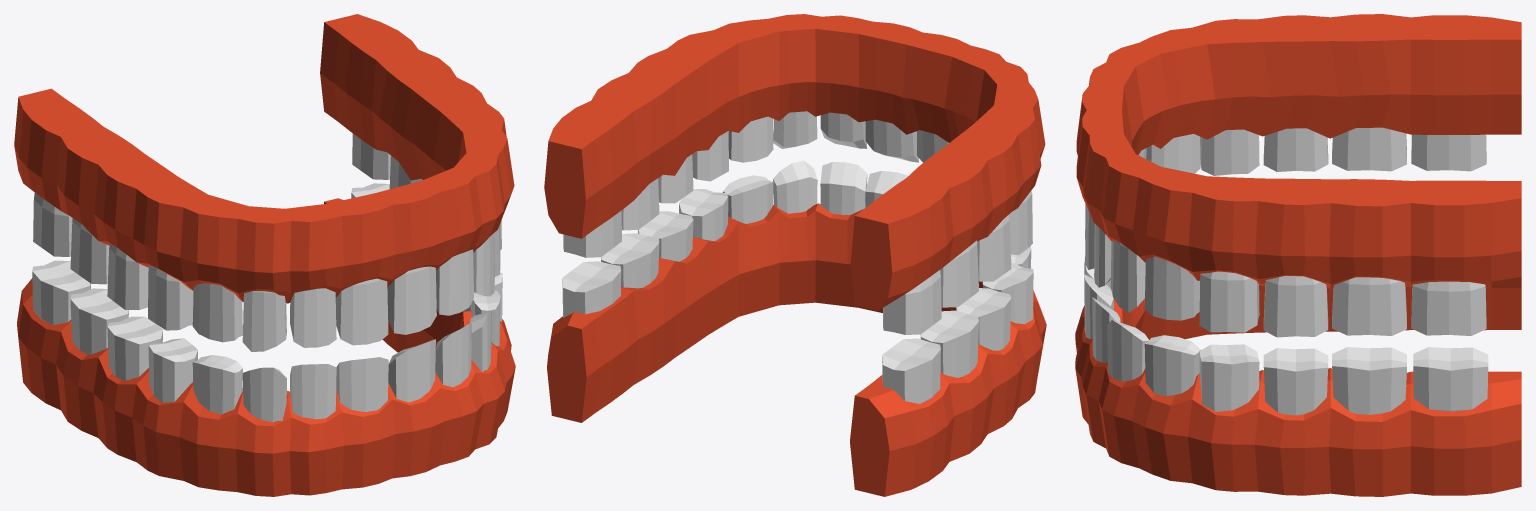
File: Jaws.fbx
3 renders of one model, left to right at view 1: azimuth 30°, elevation 25°; view 2: azimuth 150°, elevation 25°; view 3: azimuth 270°, elevation 25°, orthographic. The views are drawn at different scales.
Parts seen in each view (by area): view 1: Palatum_U, Palatum_D, Tooth1_U, Tooth1_D, Tooth2_U, Tooth2_D, Tooth3_U, Tooth4_D, Tooth3_D, Tooth8_U, Tooth8_D, Tooth4_U (+6 smaller); view 2: Palatum_U, Palatum_D, Tooth8_D, Tooth7_D, Tooth6_D, Tooth8_U, Tooth5_D, Tooth7_U, Tooth6_U, Tooth5_U, Tooth1_U, Tooth2_D (+6 smaller); view 3: Palatum_U, Palatum_D, Tooth7_U, Tooth8_U, Tooth6_U, Tooth5_U, Tooth7_D, Tooth4_U, Tooth8_D, Tooth6_D, Tooth5_D, Tooth4_D (+6 smaller).
Boxes of the visible parts, x1=… form: Palatum_U: x1=14, y1=14, x2=514, y2=303; Palatum_D: x1=17, y1=198, x2=515, y2=496; Tooth1_U: x1=335, y1=266, x2=436, y2=345; Tooth1_D: x1=336, y1=339, x2=435, y2=411; Tooth2_U: x1=290, y1=249, x2=473, y2=347; Tooth2_D: x1=290, y1=322, x2=471, y2=419; Tooth3_U: x1=242, y1=233, x2=494, y2=351; Tooth4_D: x1=192, y1=290, x2=500, y2=414; Tooth3_D: x1=242, y1=311, x2=491, y2=422; Tooth8_U: x1=33, y1=133, x2=390, y2=256; Tooth8_D: x1=32, y1=183, x2=389, y2=325; Tooth4_U: x1=192, y1=225, x2=500, y2=342; Palatum_U: x1=544, y1=14, x2=1045, y2=310; Palatum_D: x1=547, y1=203, x2=1046, y2=496; Tooth8_D: x1=562, y1=261, x2=940, y2=403; Tooth7_D: x1=601, y1=233, x2=978, y2=377; Tooth6_D: x1=638, y1=211, x2=1011, y2=350; Tooth8_U: x1=563, y1=210, x2=941, y2=334; Tooth5_D: x1=679, y1=189, x2=1033, y2=323; Tooth7_U: x1=621, y1=178, x2=978, y2=307; Tooth6_U: x1=658, y1=154, x2=1011, y2=281; Tooth5_U: x1=692, y1=131, x2=1032, y2=254; Tooth1_U: x1=865, y1=119, x2=948, y2=162; Tooth2_D: x1=820, y1=162, x2=867, y2=214; Palatum_U: x1=1076, y1=14, x2=1521, y2=288; Palatum_D: x1=1075, y1=283, x2=1521, y2=496; Tooth7_U: x1=1332, y1=127, x2=1406, y2=335; Tooth8_U: x1=1411, y1=134, x2=1486, y2=335; Tooth6_U: x1=1263, y1=128, x2=1328, y2=337; Tooth5_U: x1=1199, y1=129, x2=1259, y2=332; Tooth7_D: x1=1332, y1=347, x2=1406, y2=414; Tooth4_U: x1=1144, y1=134, x2=1200, y2=320; Tooth8_D: x1=1413, y1=347, x2=1488, y2=411; Tooth6_D: x1=1263, y1=348, x2=1328, y2=415; Tooth5_D: x1=1199, y1=344, x2=1259, y2=411; Tooth4_D: x1=1144, y1=335, x2=1200, y2=396.
Bounding box in the file's own units: 50.36 × 34.68 × 48.27.
